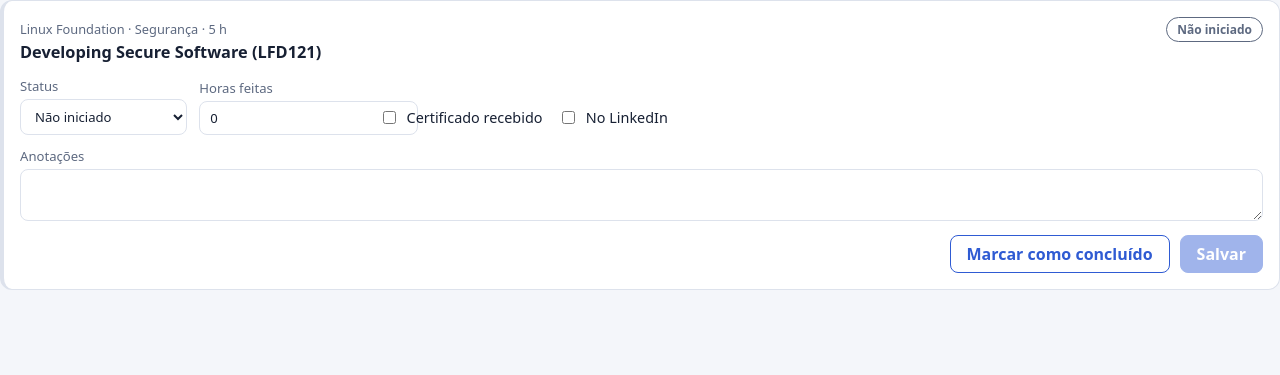
Scenario: CourseCard › shows certificate link field only after marking certificate as received
Expected: the field labelled "Link do certificado" is not shown
Click the checkbox labelled "Certificado recebido": click(389, 118) [383, 111, 396, 124]
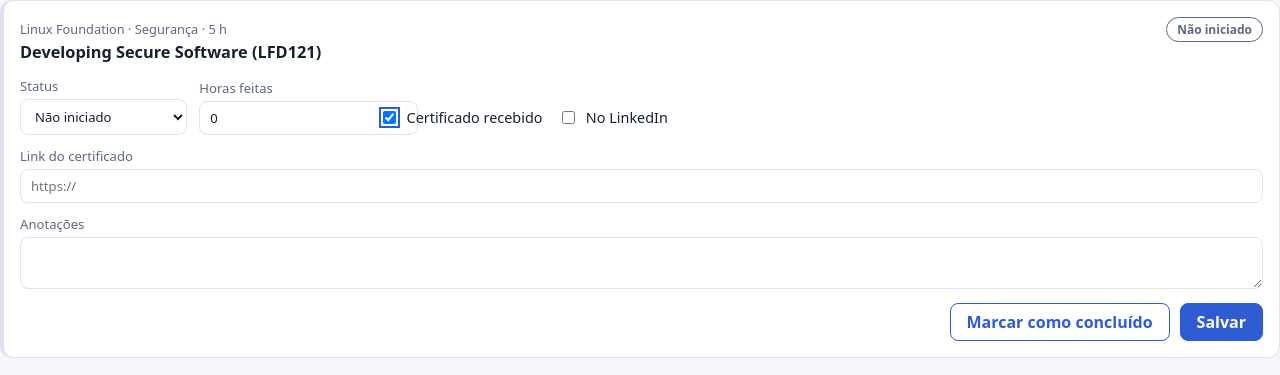
Result: the field labelled "Link do certificado" is shown at [20, 169, 1263, 203]
